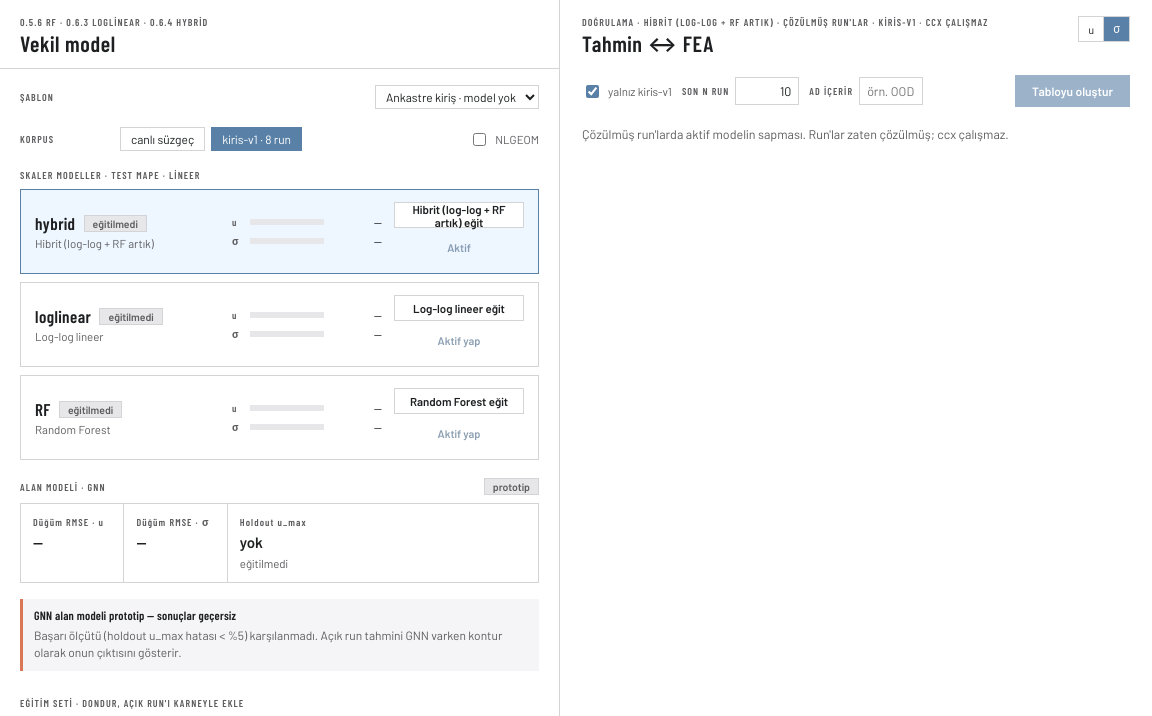
SurrogatePanel › karne süzgeci geçmeyen run için override ile ekler
Click the button "kiris-v1 · 8 run".
click(257, 139)  # box [211,127,302,151]
(page scrolled)
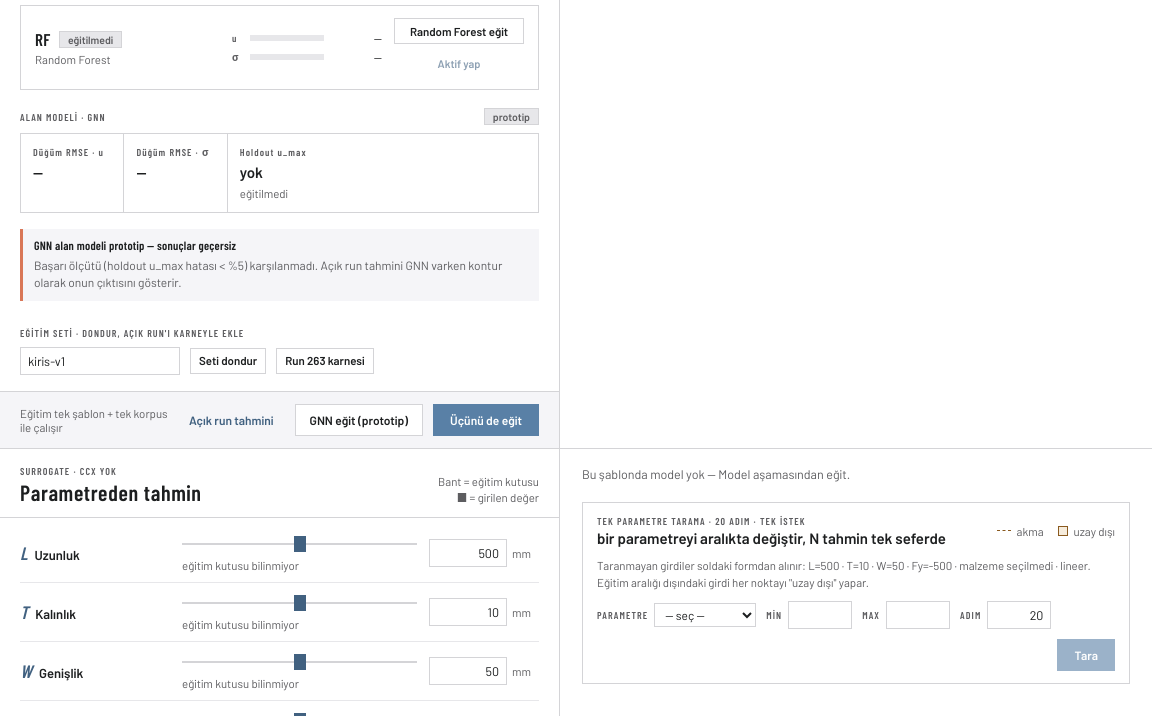
Click the button "Run 263 karnesi".
click(325, 361)  # box [276,348,374,374]
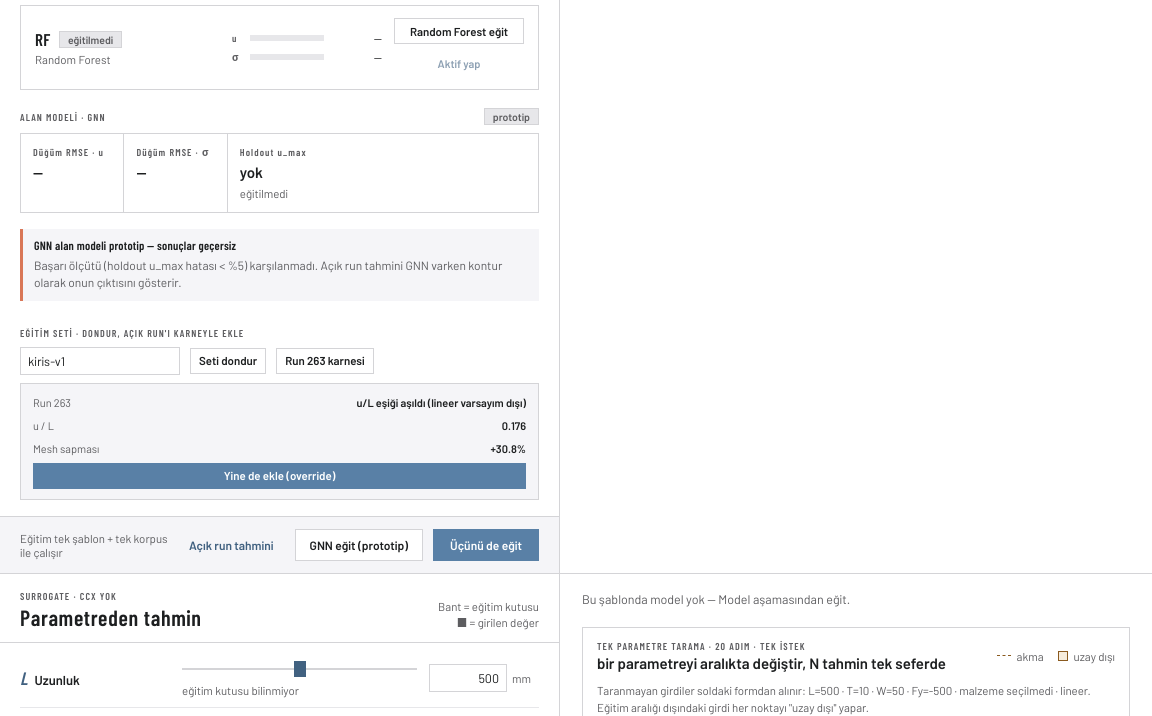
Now the text "u/L eşiği aşıldı (lineer varsayım dışı)" is shown, box [356,396,526,409]
Now the text "0.176" is shown, box [502,419,526,432]
Click the button "Yine de ekle (override)".
click(280, 476)  # box [33,463,526,489]
(page scrolled)
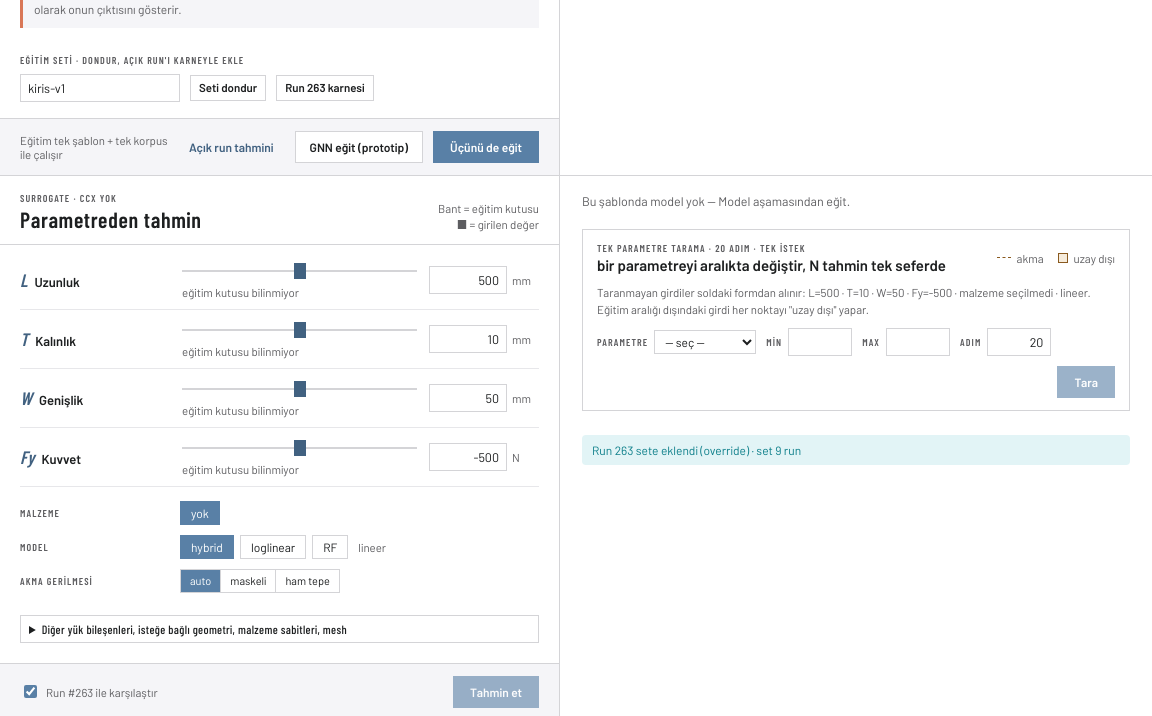
Now the text "Run 263 sete eklendi (override) · set 9 run" is shown, box [582,435,1130,465]
